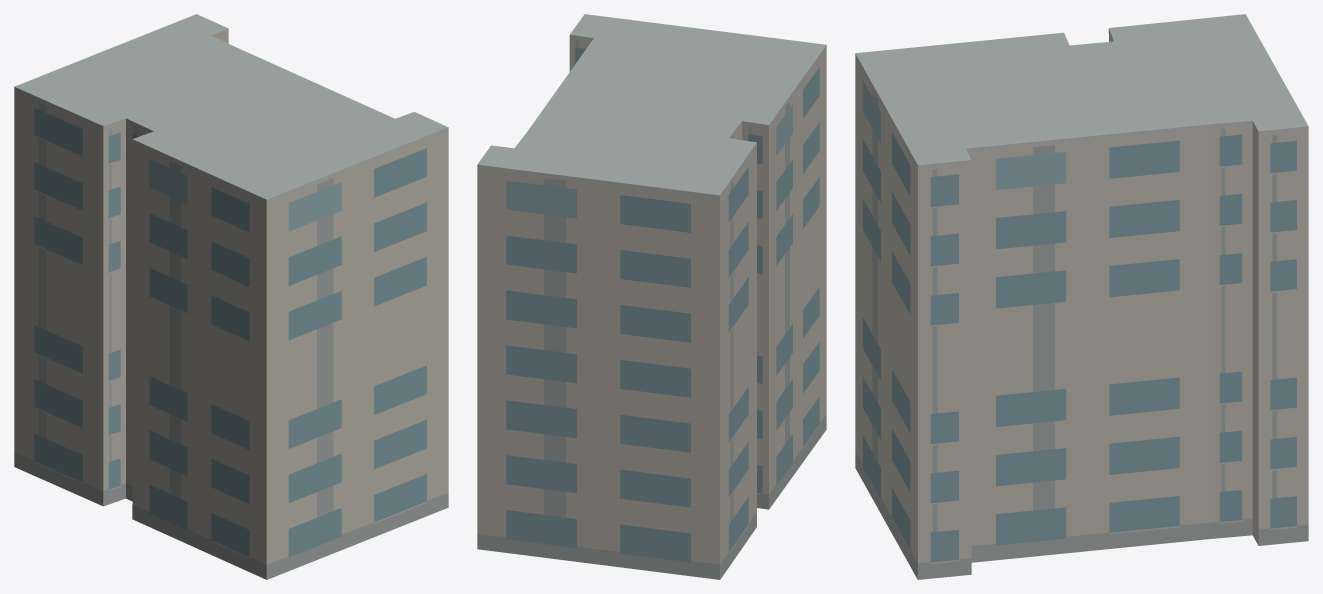
The model's file is survey-upis-32972271.glb.
The picture shows the model from 3 angles, left to right: view 1: azimuth 30°, elevation 25°; view 2: azimuth 150°, elevation 25°; view 3: azimuth 270°, elevation 25°; orthographic projection. The views are drawn at different scales.
Parts seen in each view (by area): view 1: survey-upis-32972271.tmp; view 2: survey-upis-32972271.tmp; view 3: survey-upis-32972271.tmp.
Boxes of the visible parts, left/top/right/bottom form: survey-upis-32972271.tmp: left=14, top=14, right=448, bottom=579; survey-upis-32972271.tmp: left=477, top=14, right=826, bottom=579; survey-upis-32972271.tmp: left=855, top=14, right=1308, bottom=579.
Bounding box in the file's own units: 15.07 × 19.25 × 19.09.
